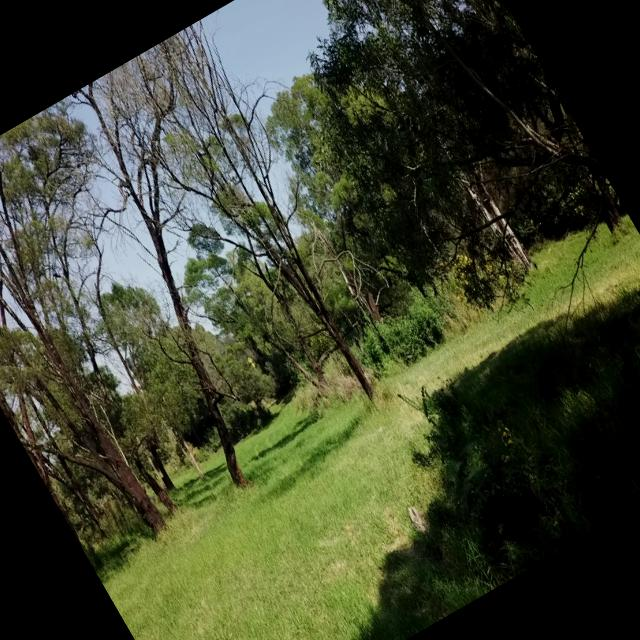Mysore-Thorn-Weed: (378, 354, 542, 558)
